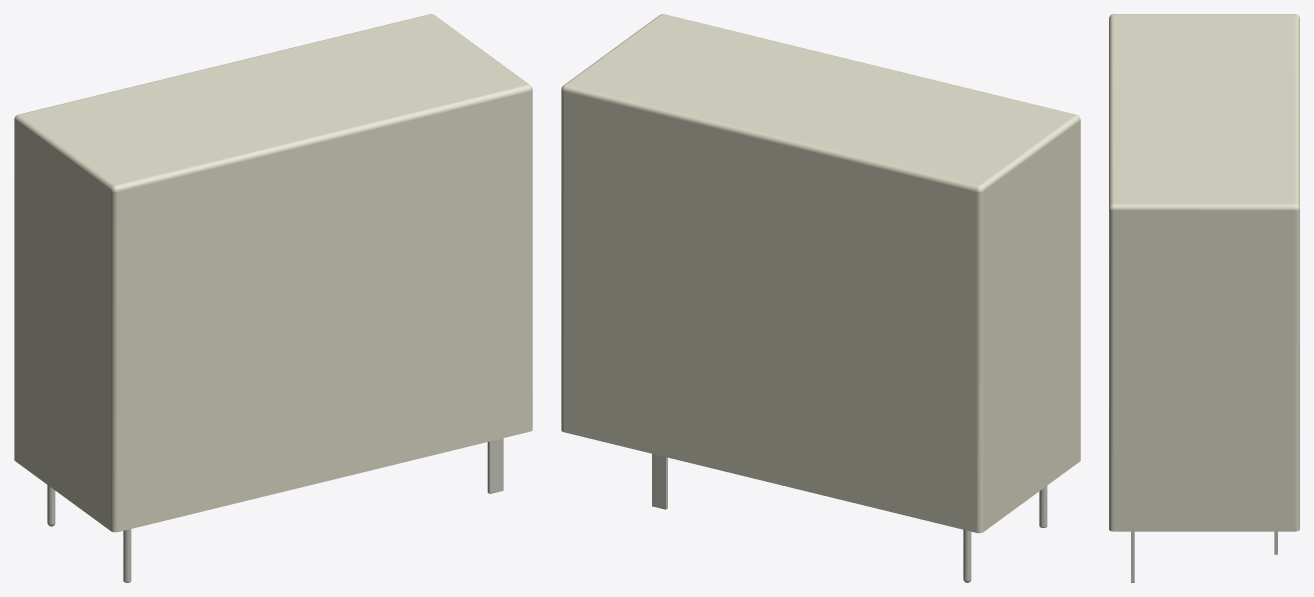
The model's file is kc-relay_spst_panasonic_adw11.glb.
3 renders of one model, left to right at view 1: azimuth 30°, elevation 25°; view 2: azimuth 150°, elevation 25°; view 3: azimuth 270°, elevation 25°, orthographic. The views are drawn at different scales.
Parts seen in each view (by area): view 1: 0.75_0.75_0.6666666666666666_0, 0.6666666666666666_0.6666666666666666_0.5833333333333334_0.8; view 2: 0.75_0.75_0.6666666666666666_0, 0.6666666666666666_0.6666666666666666_0.5833333333333334_0.8; view 3: 0.75_0.75_0.6666666666666666_0, 0.6666666666666666_0.6666666666666666_0.5833333333333334_0.8.
Part boxes in pixels (x1,y1,x2,y2): 0.75_0.75_0.6666666666666666_0: [14, 14, 532, 532]; 0.6666666666666666_0.6666666666666666_0.5833333333333334_0.8: [47, 438, 503, 582]; 0.75_0.75_0.6666666666666666_0: [561, 14, 1080, 533]; 0.6666666666666666_0.6666666666666666_0.5833333333333334_0.8: [652, 454, 1047, 582]; 0.75_0.75_0.6666666666666666_0: [1109, 14, 1299, 531]; 0.6666666666666666_0.6666666666666666_0.5833333333333334_0.8: [1131, 531, 1277, 582].
Bounding box in the file's own units: 2.4 × 2.23 × 1.
